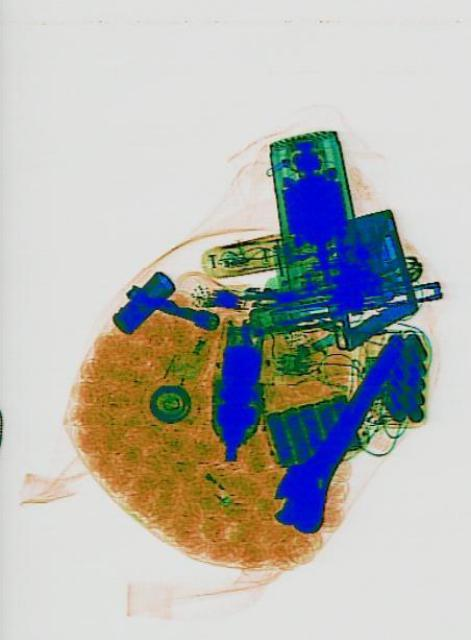Wrench: (261, 313, 420, 545)
